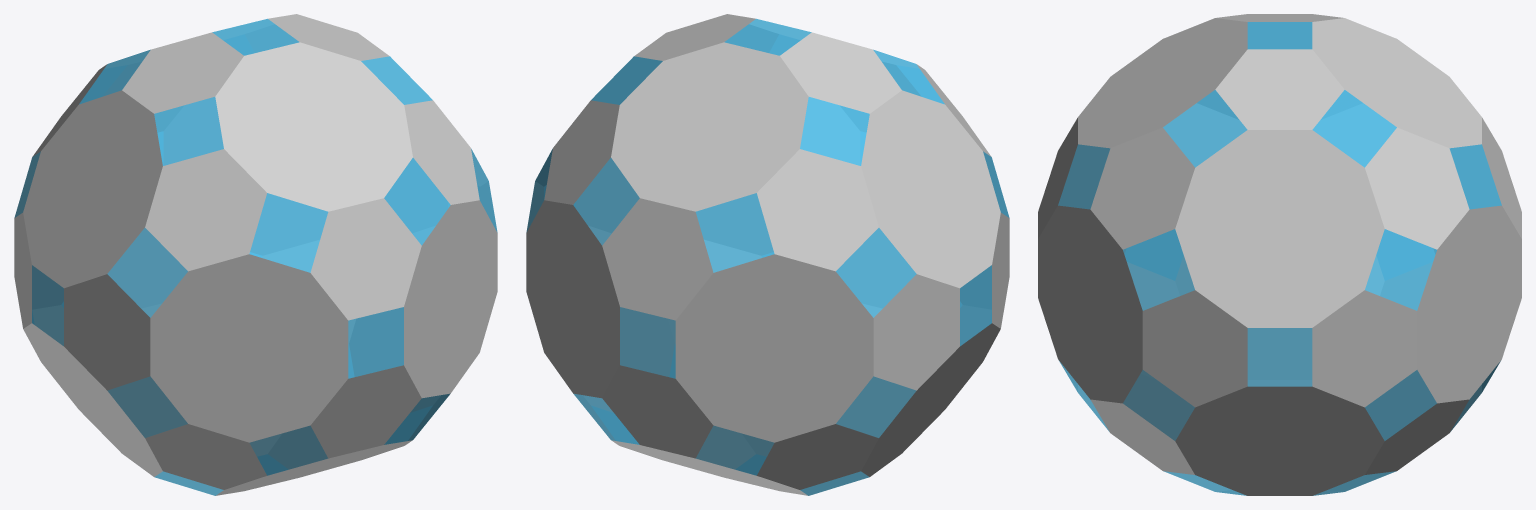
The model's file is TruncatedIcosidodecahedron.obj.
3 renders of one model, left to right at view 1: azimuth 30°, elevation 25°; view 2: azimuth 150°, elevation 25°; view 3: azimuth 270°, elevation 25°, orthographic.
Size of the model in its own units: 7.47 by 7.47 by 7.47.
